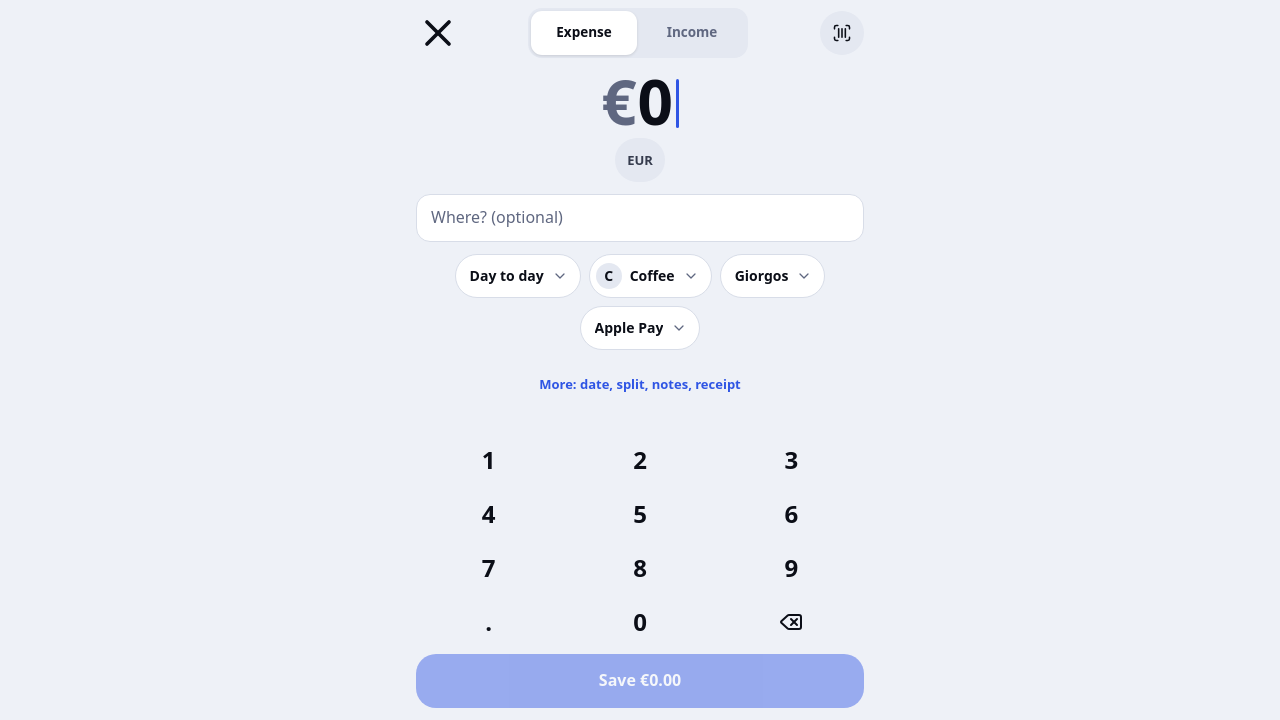
Test: Enter on a focused button activates that button, never Save: Enter on ✕ closes and does not save
This screenshot has width=1280, height=720.
Press 3
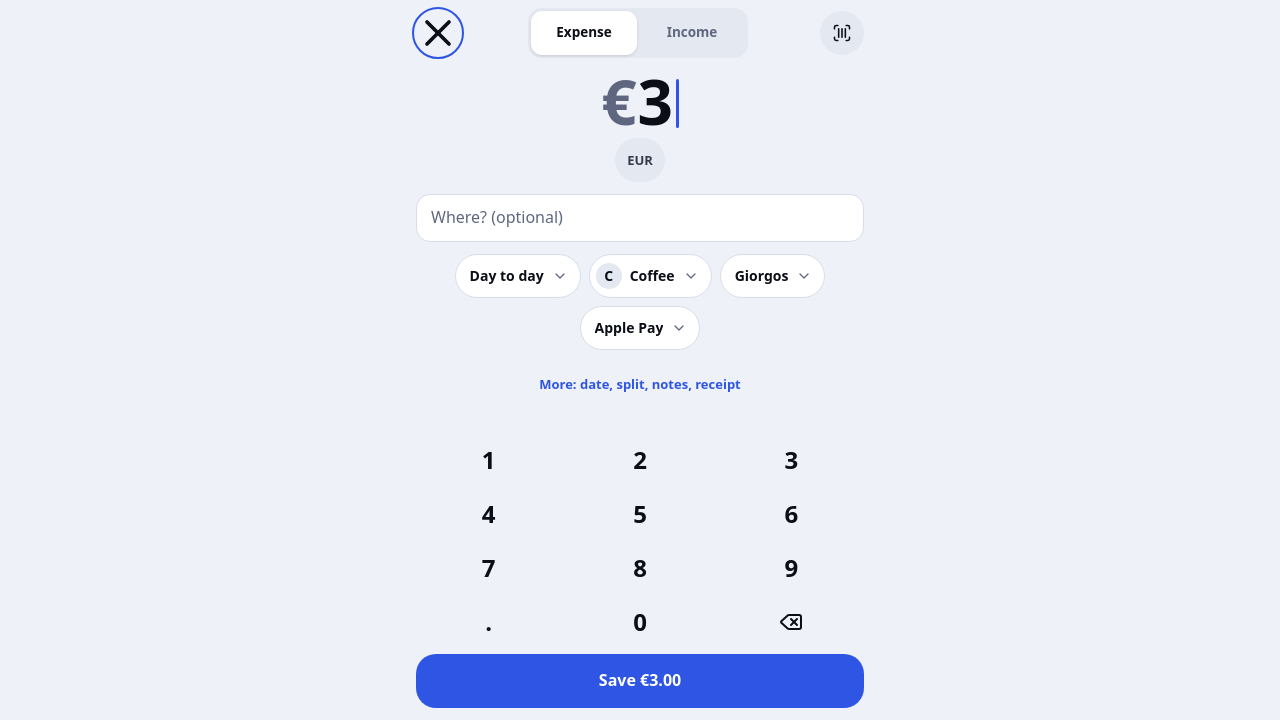
Press Enter in the button named "Close", box 416,11 -> 460,55
Click the button named "Close": (438, 33) 416,11 -> 460,55
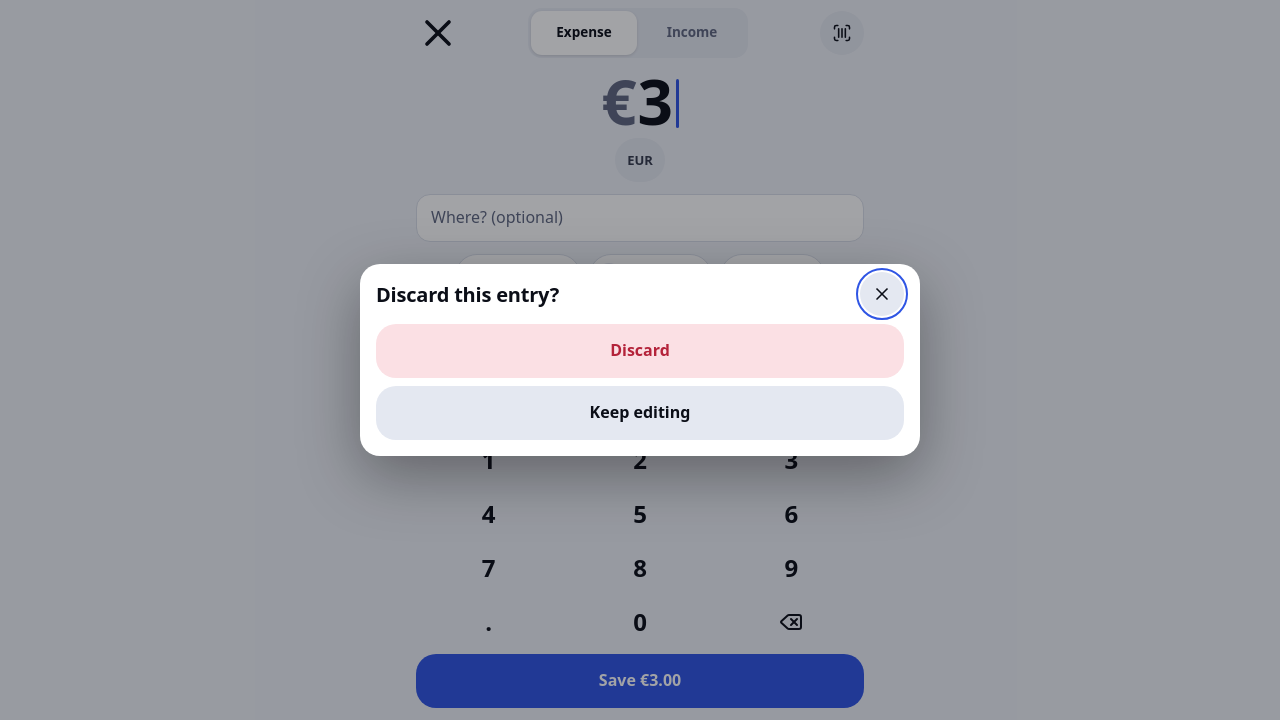
Expected: the dialog "Discard this entry?" is shown, 360,264 -> 920,456
# Enter on the page itself still saves.
Click the button "Keep editing": (640, 413) 376,386 -> 904,440
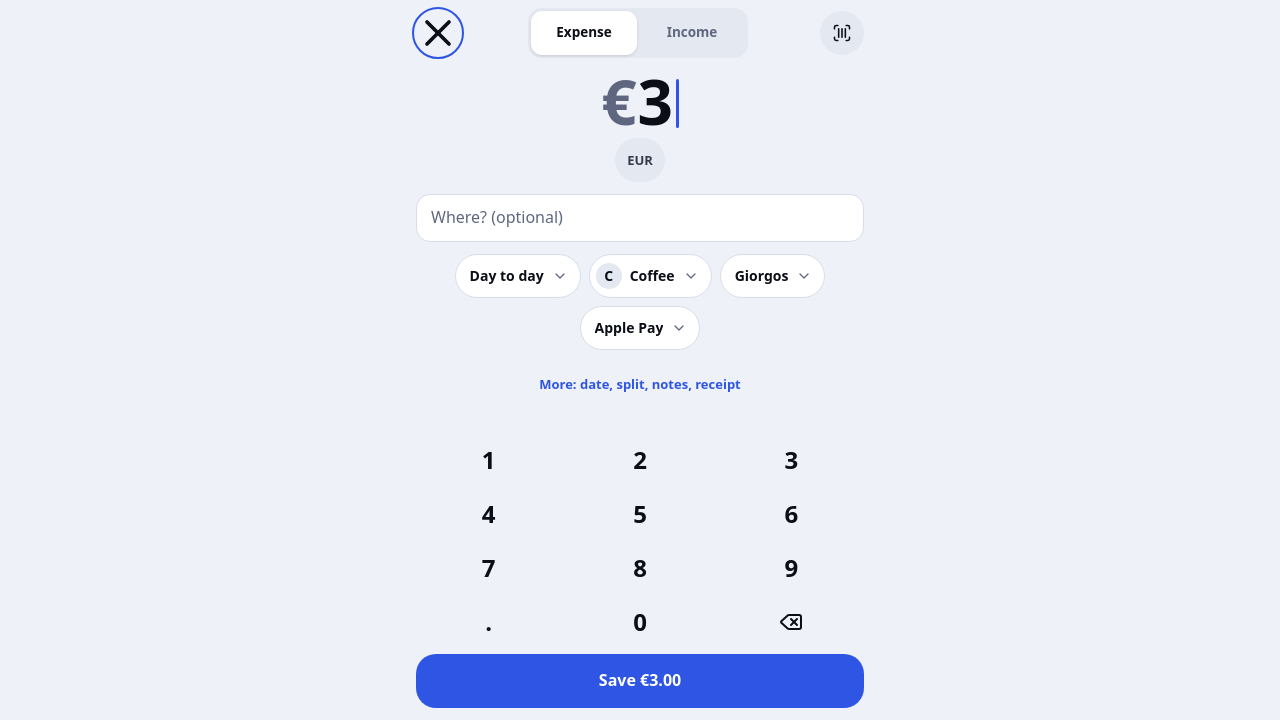
Press Enter
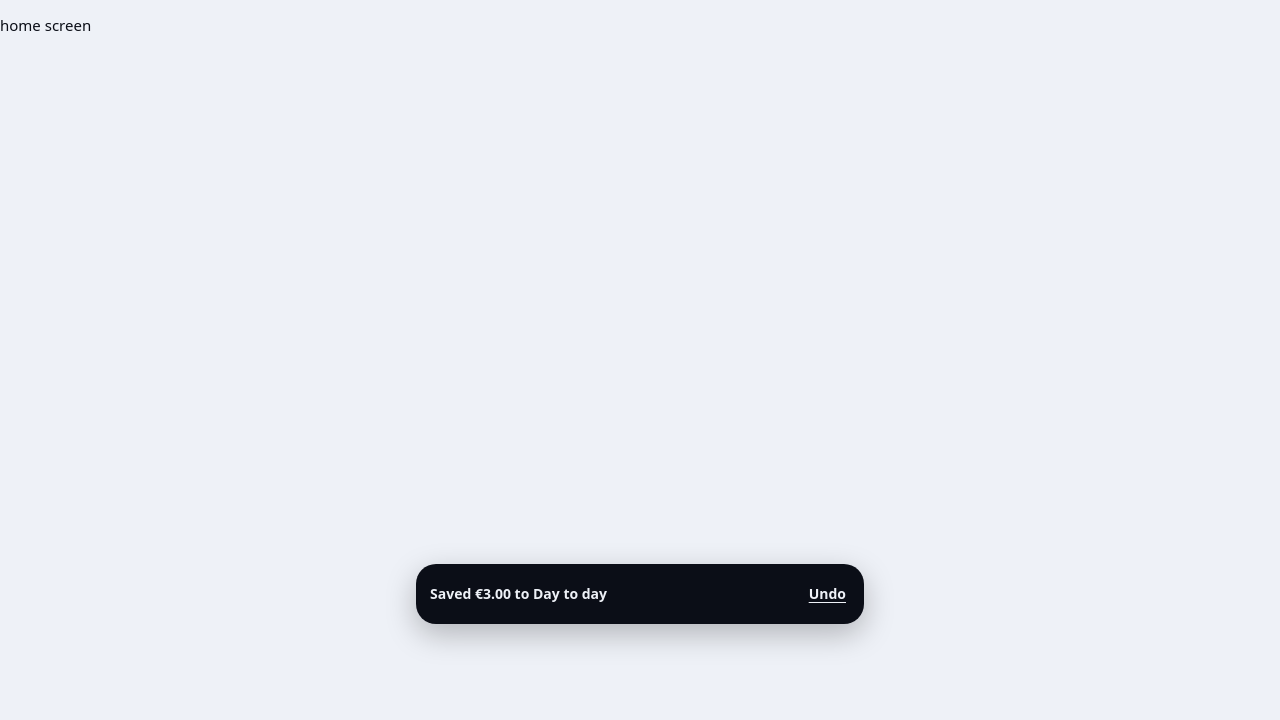
Expected: the text "home screen" is shown, 0,15 -> 91,35
